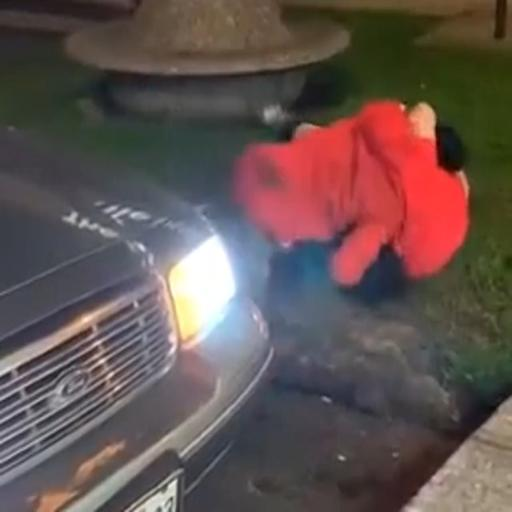violencia: (218, 73, 478, 328)
